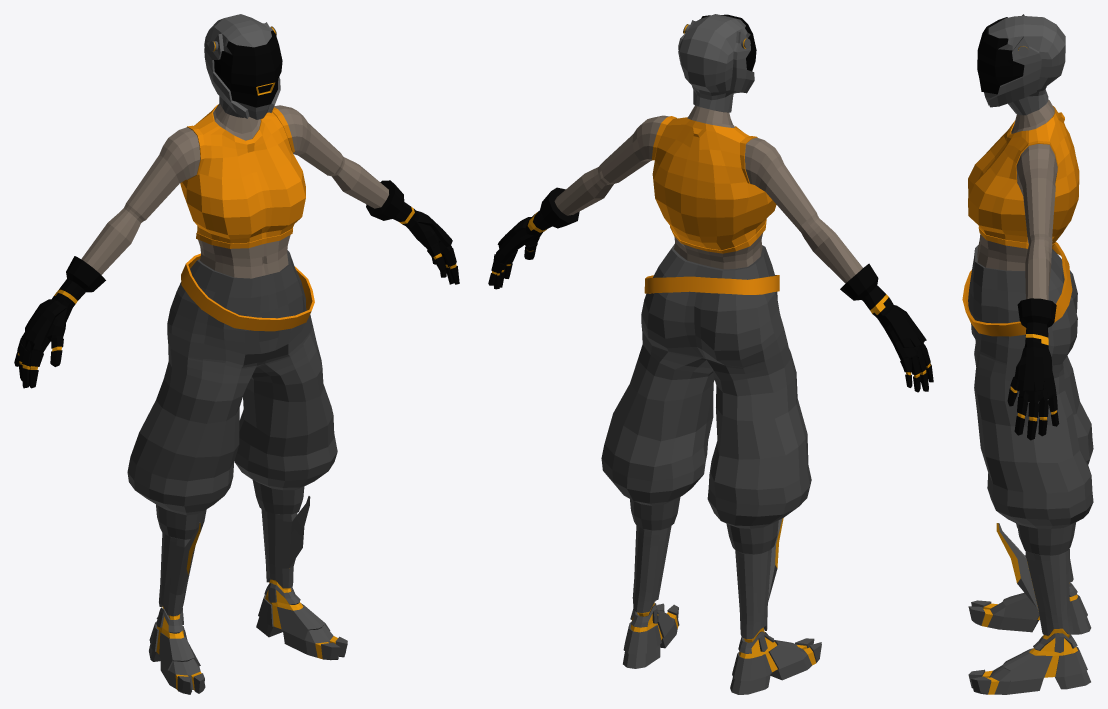
Rendered from SM_Breakdancer.fbx.
3 views of the same model, side by side, from view 1: azimuth 30°, elevation 25°; view 2: azimuth 150°, elevation 25°; view 3: azimuth 270°, elevation 25° (orthographic).
Parts seen in each view (by area): view 1: Character_2, Blade_L; view 2: Character_2; view 3: Character_2, Blade_L.
Boxes of the visible parts, box(x1,y1,x2,y2) form: Character_2: box(14, 14, 459, 694); Blade_L: box(289, 496, 310, 567); Character_2: box(488, 14, 933, 694); Character_2: box(962, 14, 1093, 694); Blade_L: box(996, 523, 1038, 610).
Size of the model in its own units: 150 by 212 by 39.71.
